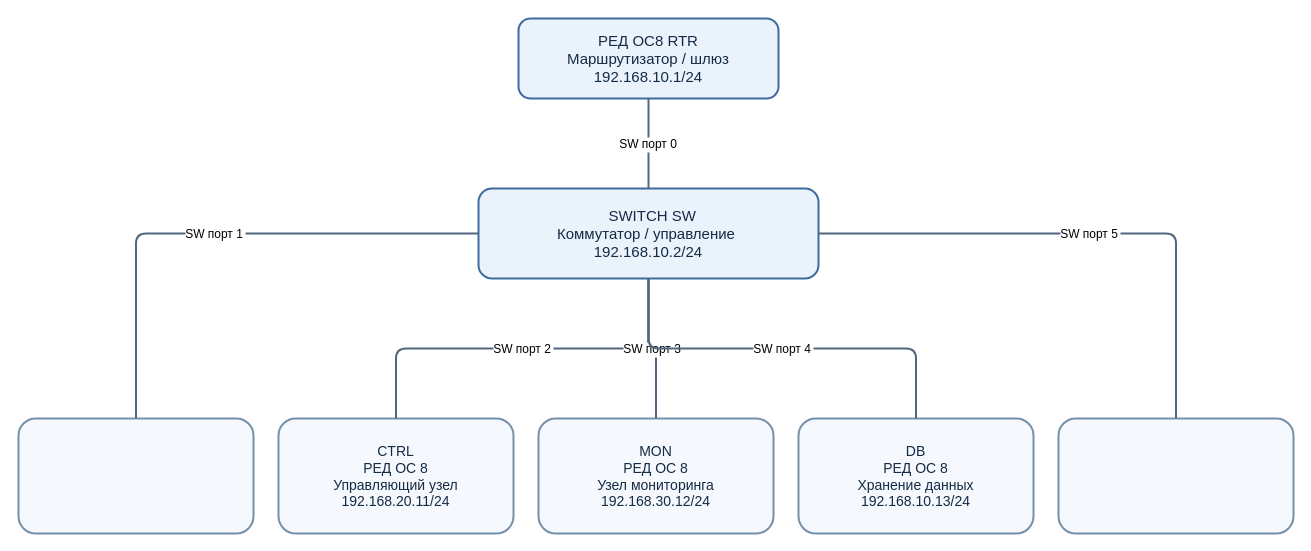
Image size: 1311x551. Some labels were removed from this diagram. The box of each missing label's shape, as (x1, y1, x2, y2) in pixels:
IOT РЕД ОС 8 · Node-RED Модели TEMP, HUM, FAN 192.168.30.14/24: (1057, 417, 1294, 534)
WIN Windows Server 2019 Рабочее место администратора 192.168.10.10/24: (17, 417, 254, 534)
